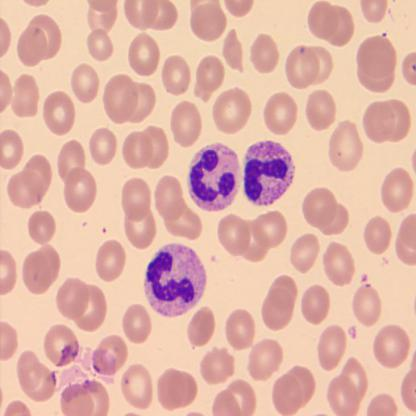Band Neutrophil: (142, 241, 206, 319), (184, 140, 242, 214), (239, 138, 297, 209)
